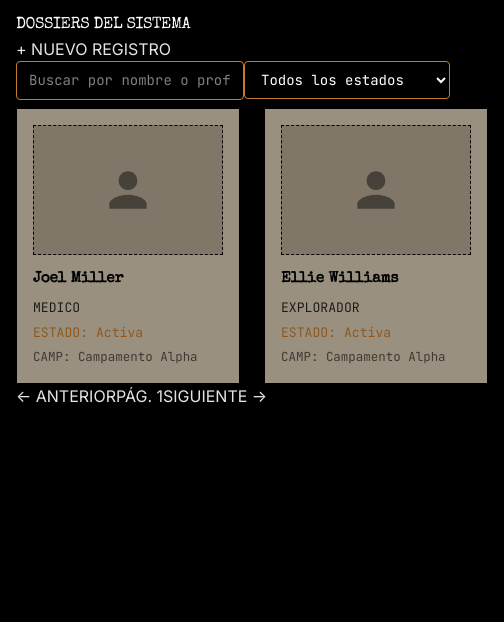
Test: Admin → People › detail / edit / status / delete › returns from status modal to detail when pressing CANCELAR
This screenshot has width=504, height=622.
Click the text "Joel Miller".
click(78, 279)  # box 33,271 -> 123,287
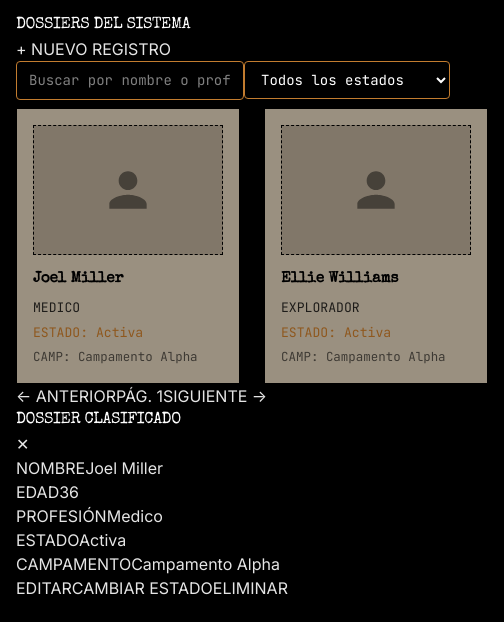
Click the button "CAMBIAR ESTADO".
click(142, 588)  # box 72,576 -> 213,600
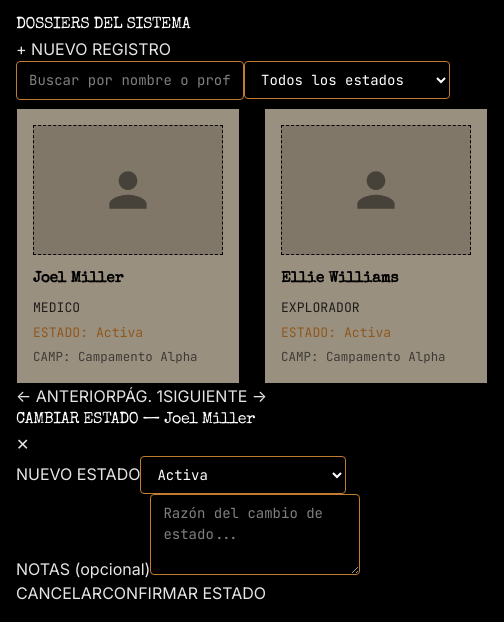
Click the button "CANCELAR".
click(59, 593)  # box 16,581 -> 102,605
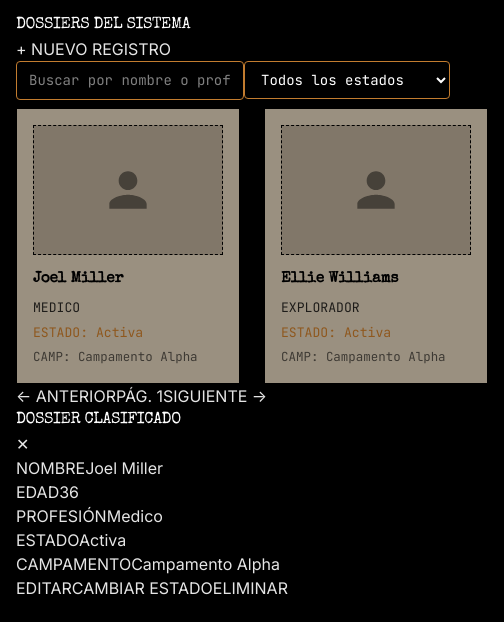
Result: the heading "DOSSIER CLASIFICADO" is shown at 16,412 -> 181,428
